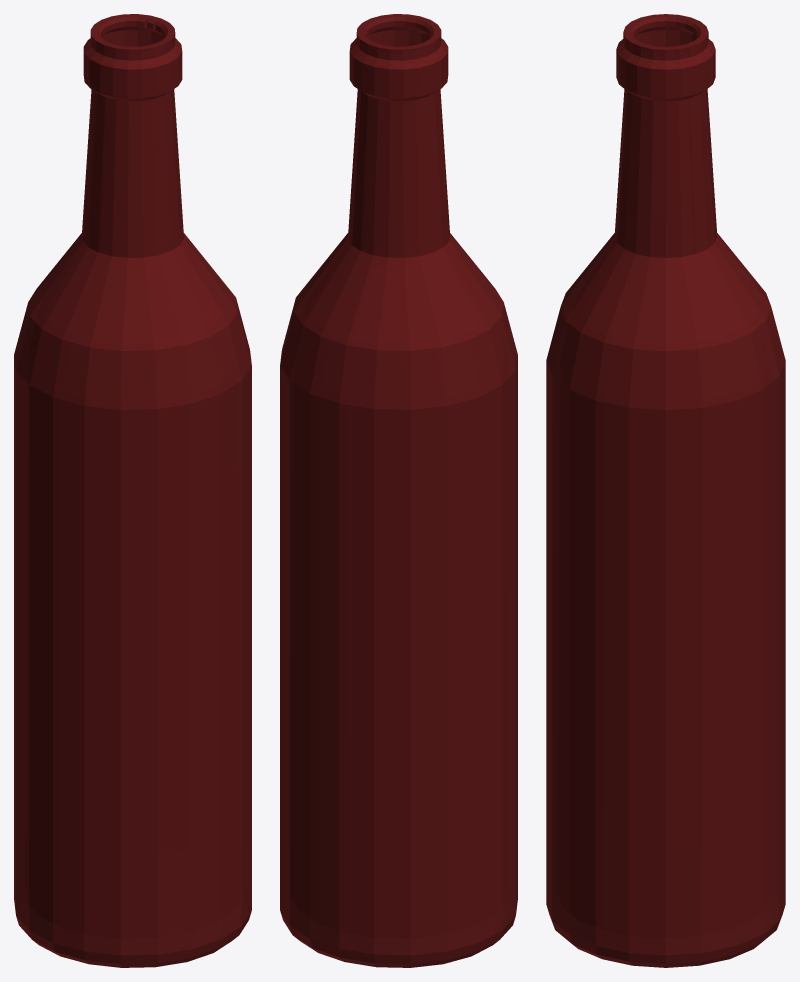
Rendered from Bottle 1.fbx.
The picture shows the model from 3 angles, left to right: view 1: azimuth 30°, elevation 25°; view 2: azimuth 150°, elevation 25°; view 3: azimuth 270°, elevation 25°; orthographic projection.
Visible parts, largest first — view 1: pCylinder5; view 2: pCylinder5; view 3: pCylinder5.
Boxes of the visible parts, x1,y1,x2,y2 form: pCylinder5: (14,14,251,967); pCylinder5: (280,14,517,967); pCylinder5: (546,14,785,967).
Bounding box in the file's own units: 7.77 × 32.01 × 7.77.
